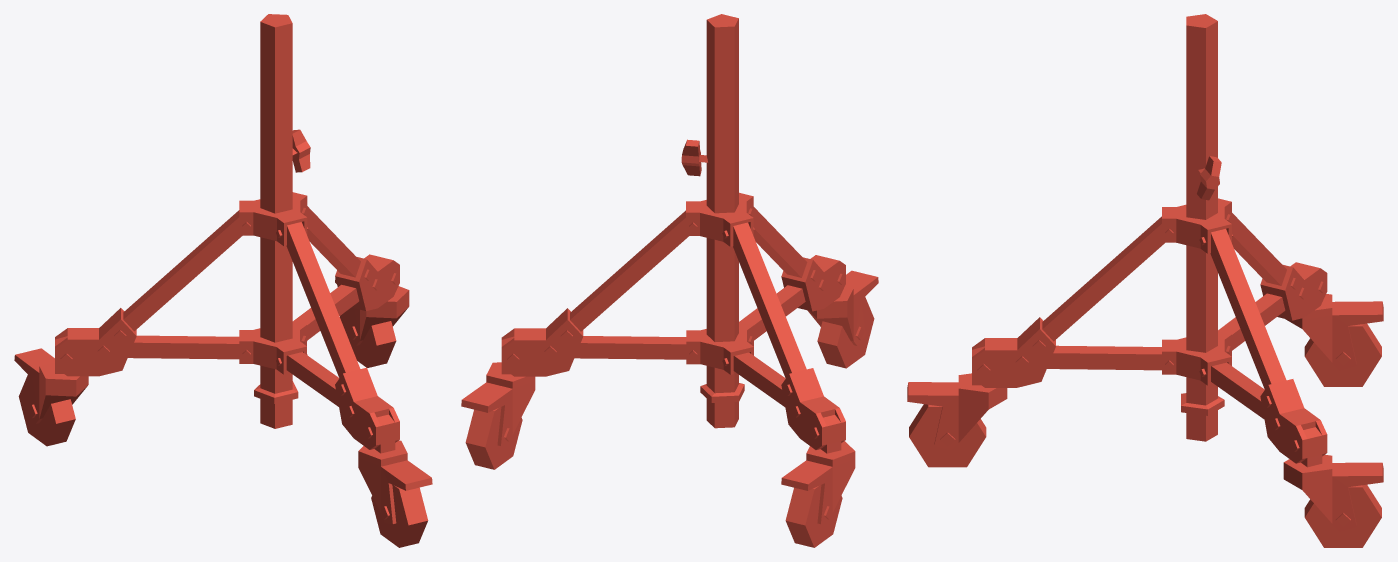
Rendered from SM_Tripod_Wheels_Base.fbx.
3 views of the same model, side by side, from view 1: azimuth 30°, elevation 25°; view 2: azimuth 150°, elevation 25°; view 3: azimuth 270°, elevation 25° (orthographic). The views are drawn at different scales.
Parts seen in each view (by area): view 1: SM_Tripod_Wheels_Base; view 2: SM_Tripod_Wheels_Base; view 3: SM_Tripod_Wheels_Base.
Boxes of the visible parts, left/top/right/bottom form: SM_Tripod_Wheels_Base: left=14, top=14, right=432, bottom=547; SM_Tripod_Wheels_Base: left=461, top=14, right=878, bottom=547; SM_Tripod_Wheels_Base: left=907, top=14, right=1383, bottom=547.
Bounding box in the file's own units: 70.86 × 64.29 × 72.45.
